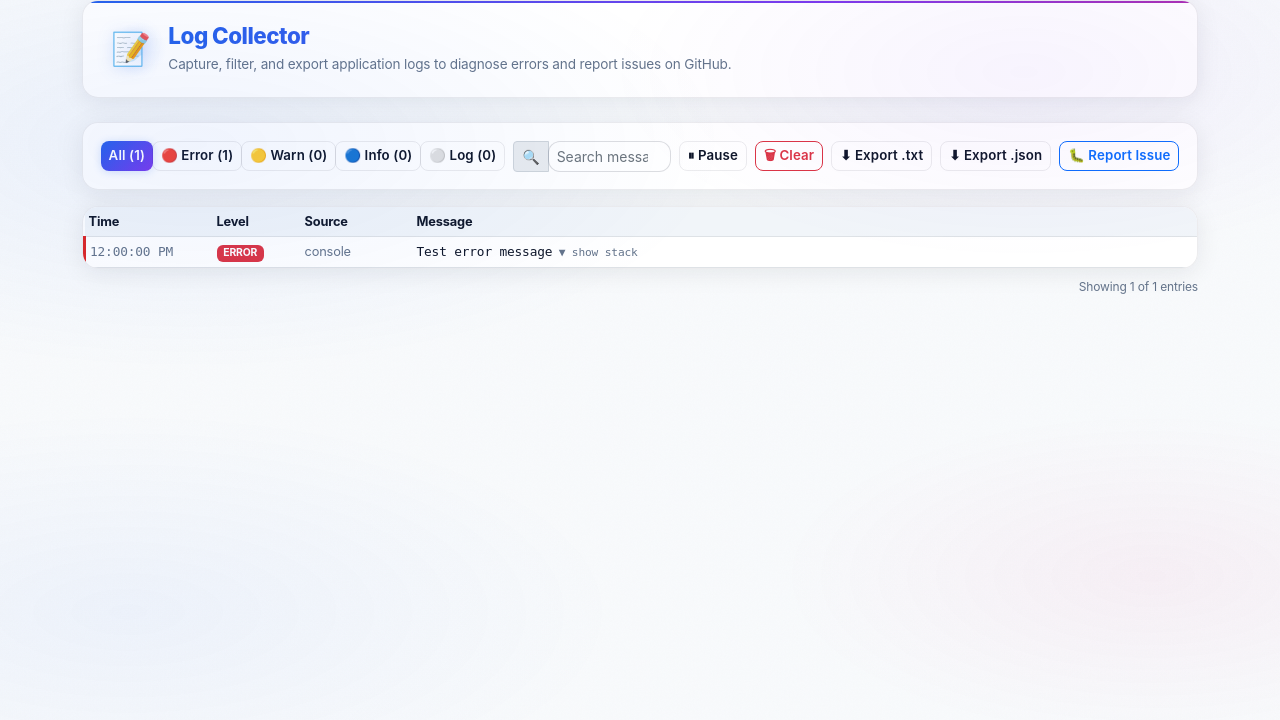
Test: LogCollector Component › expands stack trace row when a row with a stack is clicked
Click the text "▼ show stack" at [598, 253], box [559,246,638,259]
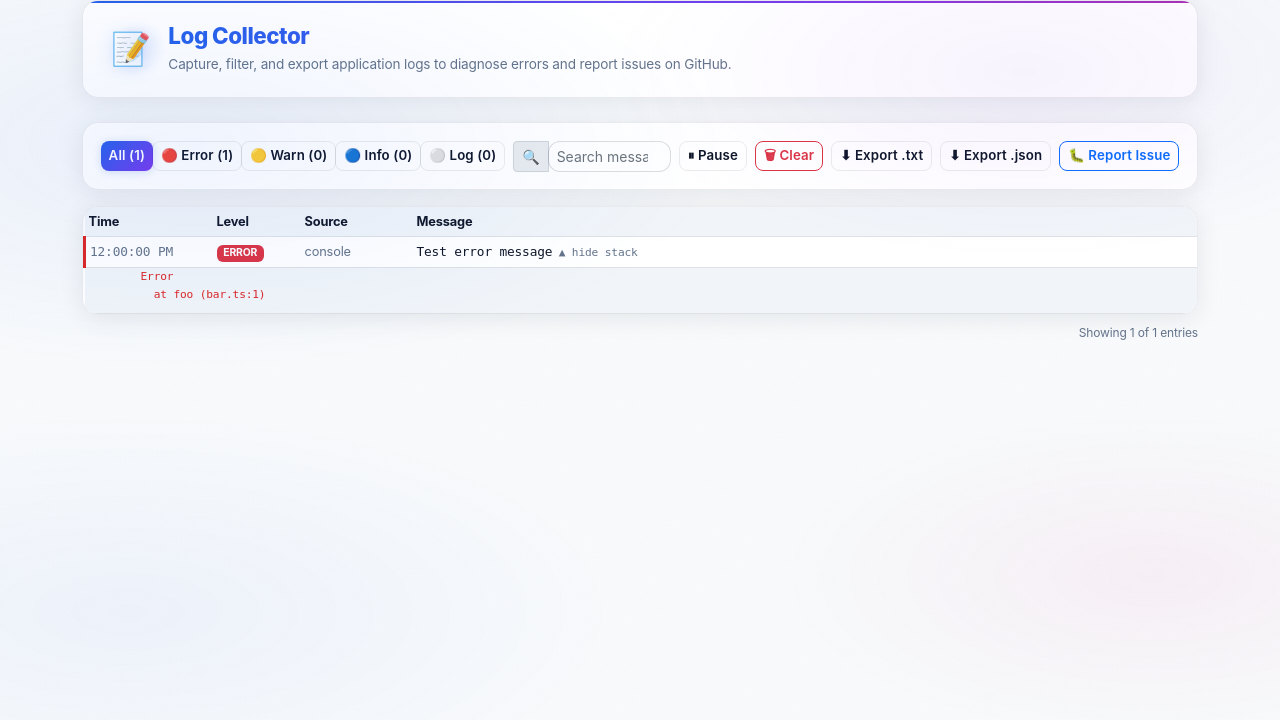
Expected: the text "Error at foo (bar.ts:1)" is shown, [140,270,266,301]
